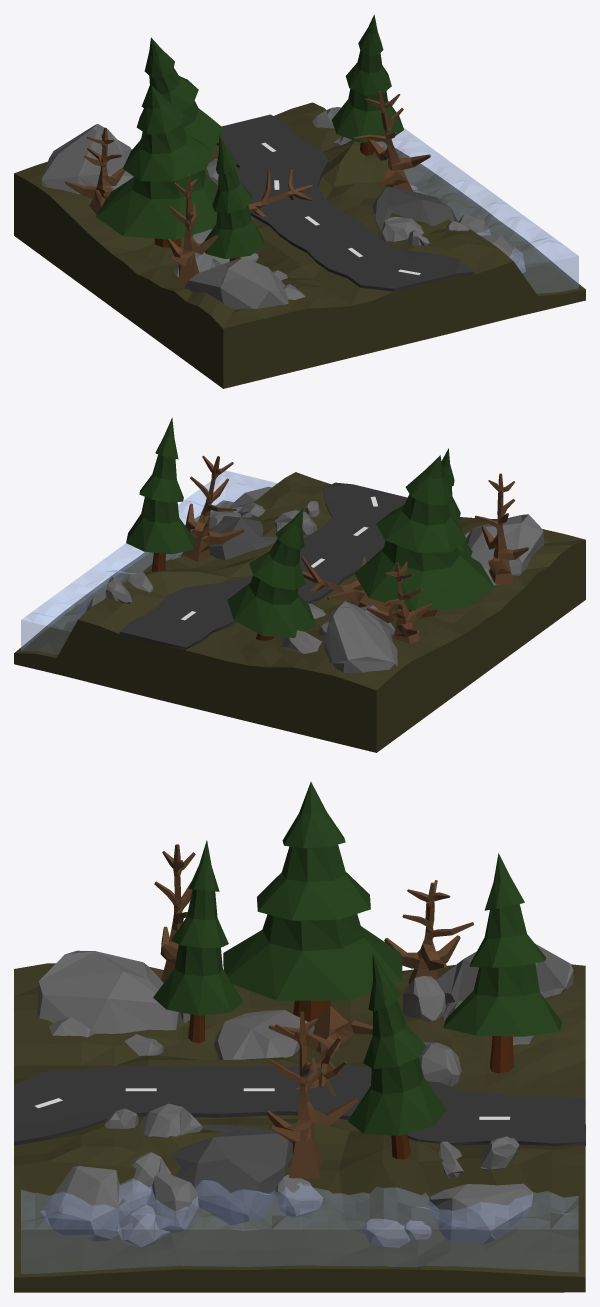
The model's file is forest-road-unbaked.glb.
3 views of the same model, one above another, from view 1: azimuth 30°, elevation 25°; view 2: azimuth 150°, elevation 25°; view 3: azimuth 270°, elevation 25° (orthographic). The views are drawn at different scales.
Visible parts, largest first — view 1: Terrain, Road, Tree, Water, Tree.003, Tree.006, Rock.001, Rock.003, Tree.002, Rock, Tree.001, Tree.004 (+4 smaller); view 2: Terrain, Road, Tree, Water, Tree.002, Tree.003, Rock.003, Rock.001, Tree.001, Tree.004, Rock, Tree.005 (+5 smaller); view 3: Terrain, Water, Road, Tree, Tree.002, Tree.003, Rock.001, Rock, Tree.006, Rock.014, Rock.017, Tree.001 (+14 smaller).
Boxes of the visible parts, bbox=[...] form: Terrain: bbox=[14, 102, 585, 388]; Road: bbox=[216, 114, 474, 291]; Tree: bbox=[96, 85, 217, 247]; Water: bbox=[380, 127, 578, 293]; Tree.003: bbox=[331, 14, 403, 155]; Tree.006: bbox=[204, 134, 264, 261]; Rock.001: bbox=[184, 257, 288, 309]; Rock.003: bbox=[41, 124, 133, 194]; Tree.002: bbox=[140, 37, 224, 149]; Rock: bbox=[372, 186, 458, 230]; Tree.001: bbox=[353, 91, 430, 191]; Tree.004: bbox=[167, 175, 218, 284]; Terrain: bbox=[14, 472, 585, 752]; Road: bbox=[119, 482, 407, 650]; Tree: bbox=[354, 455, 494, 616]; Water: bbox=[21, 470, 277, 654]; Tree.002: bbox=[227, 508, 315, 640]; Tree.003: bbox=[126, 417, 195, 571]; Rock.003: bbox=[324, 601, 397, 672]; Rock.001: bbox=[465, 514, 544, 575]; Tree.001: bbox=[180, 455, 244, 562]; Tree.004: bbox=[475, 473, 529, 585]; Rock: bbox=[209, 516, 277, 559]; Tree.005: bbox=[367, 561, 432, 643]; Terrain: bbox=[14, 963, 585, 1292]; Water: bbox=[21, 1178, 578, 1273]; Road: bbox=[14, 1065, 585, 1145]; Tree: bbox=[223, 782, 402, 1021]; Tree.002: bbox=[443, 853, 562, 1073]; Tree.003: bbox=[348, 953, 446, 1159]; Rock.001: bbox=[37, 950, 180, 1033]; Rock: bbox=[172, 1124, 292, 1225]; Tree.006: bbox=[153, 840, 243, 1043]; Rock.014: bbox=[40, 1166, 151, 1241]; Rock.017: bbox=[428, 1183, 532, 1244]; Tree.001: bbox=[266, 1011, 357, 1178].
Size of the model in its own units: 8.11 by 4.54 by 8.
